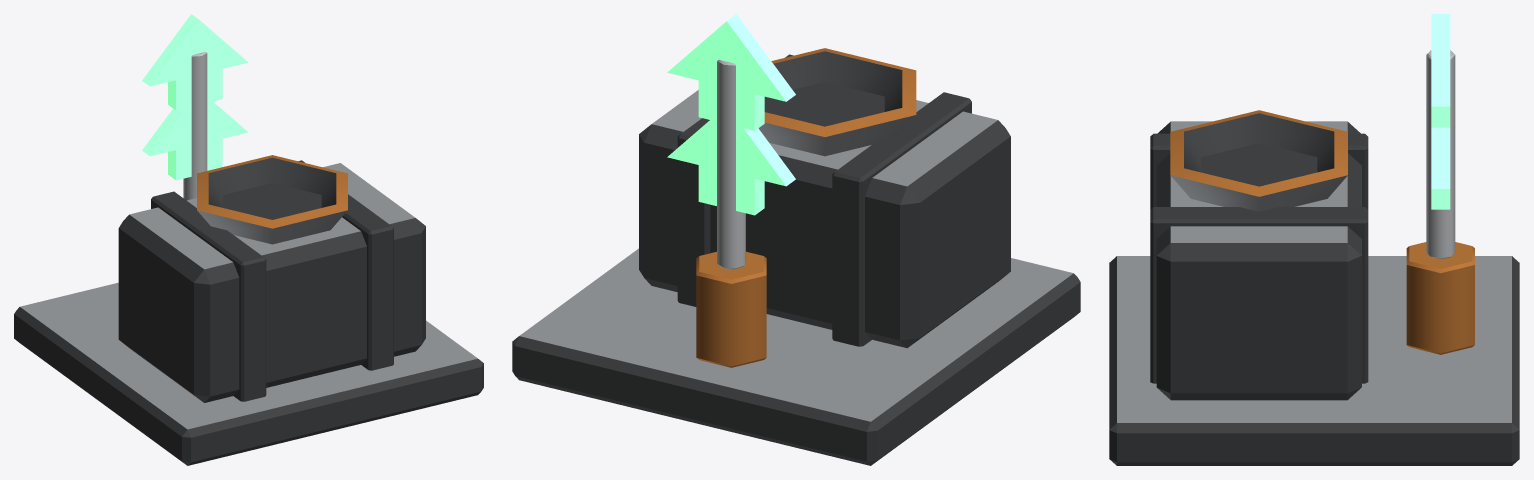
The model's file is R4X_CargoUplink_LOD1.fbx.
3 views of the same model, side by side, from view 1: azimuth 30°, elevation 25°; view 2: azimuth 150°, elevation 25°; view 3: azimuth 270°, elevation 25° (orthographic). The views are drawn at different scales.
Visible parts, largest first — view 1: R4X_CargoUplink_LOD1; view 2: R4X_CargoUplink_LOD1; view 3: R4X_CargoUplink_LOD1.
Part boxes in pixels (x1,y1,x2,y2): R4X_CargoUplink_LOD1: (14,14,483,465); R4X_CargoUplink_LOD1: (512,14,1080,465); R4X_CargoUplink_LOD1: (1109,14,1519,465).
Size of the model in its own units: 0.52 by 0.515 by 0.52.
